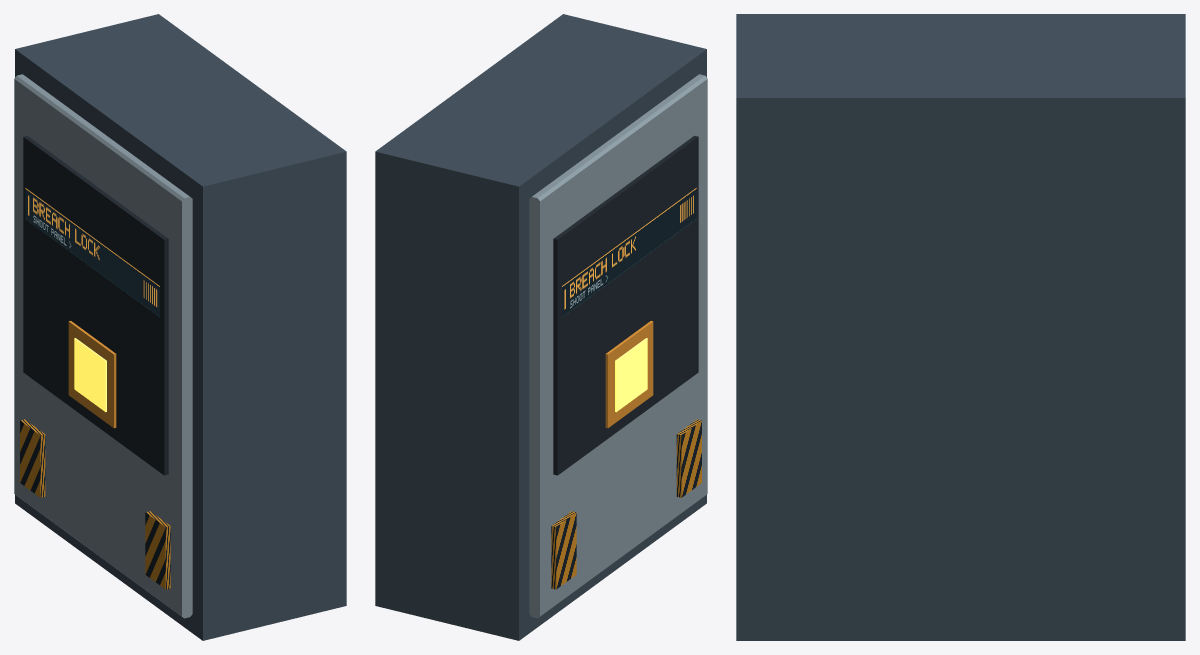
Rendered from breach-panel.glb.
The picture shows the model from 3 angles, left to right: view 1: azimuth 30°, elevation 25°; view 2: azimuth 150°, elevation 25°; view 3: azimuth 270°, elevation 25°; orthographic projection. The views are drawn at different scales.
Visible parts, largest first — view 1: BreachLock_Panel, LockIndicator; view 2: BreachLock_Panel, LockIndicator; view 3: BreachLock_Panel.
Part boxes in pixels (box(x1,y1,x2,y2)): BreachLock_Panel: box(14, 14, 346, 640); LockIndicator: box(68, 321, 116, 428); BreachLock_Panel: box(375, 14, 707, 640); LockIndicator: box(605, 321, 653, 428); BreachLock_Panel: box(736, 14, 1185, 640).
Size of what is drawn, in the model's own units: 0.6 by 1.6 by 1.2.
Materials: 7 (2 with a texture image).
